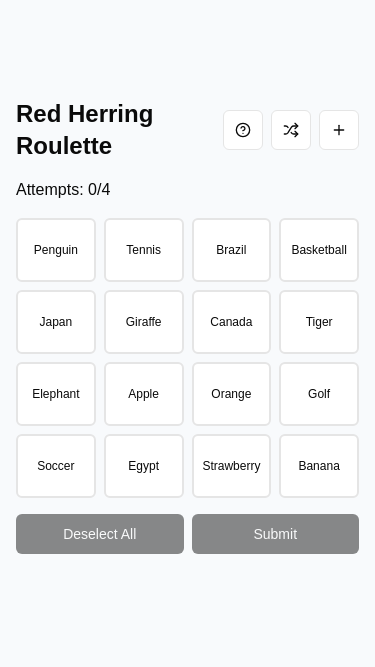
Home Page › Playing the game › should allow solving the "Countries" category
Click the button "Canada" at (232, 322), box [192, 290, 272, 354]
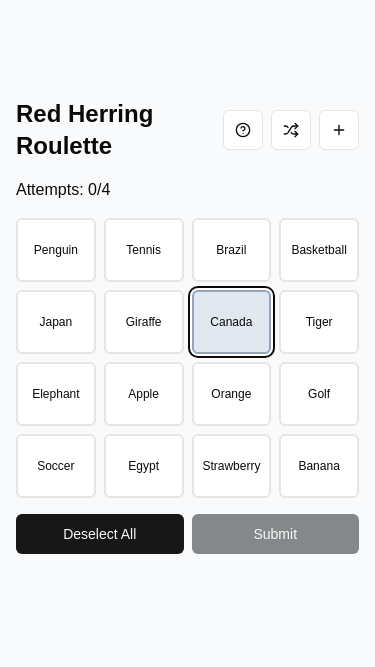
Click the button "Brazil" at (232, 250), box [192, 218, 272, 282]
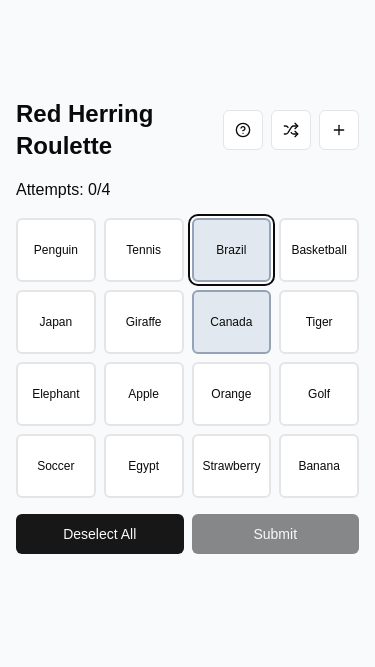
Click the button "Japan" at (56, 322), box [16, 290, 96, 354]
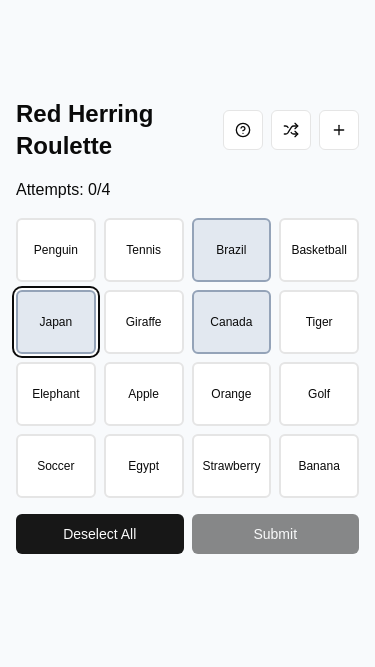
Click the button "Egypt" at (144, 466), box [104, 434, 184, 498]
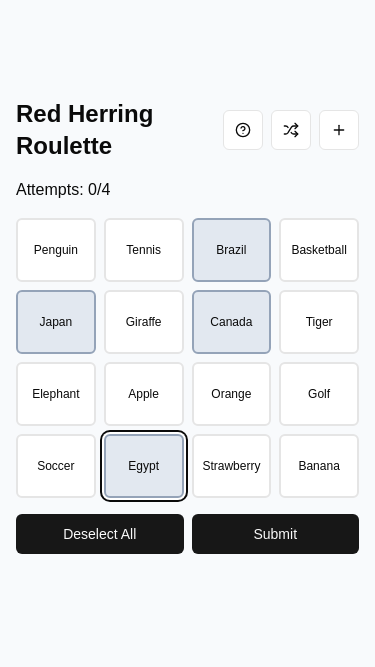
Click the button with test id "submit-button" at (276, 534), box [192, 514, 360, 554]
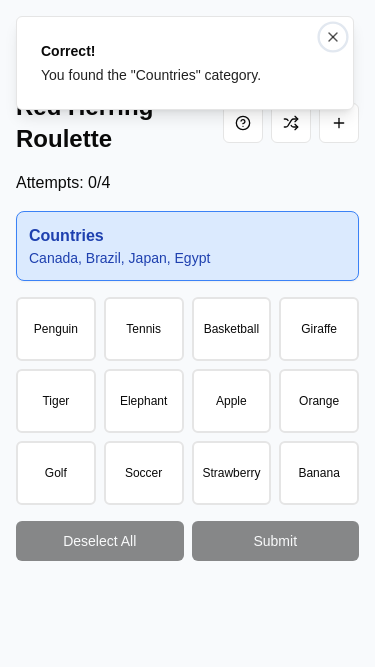
Now the list item with test id "toast" is shown, box [16, 16, 354, 110]
Now the text "Correct!" is shown, box [41, 43, 96, 59]
Now the element with test id "solved-category" is shown, box [16, 211, 359, 281]
